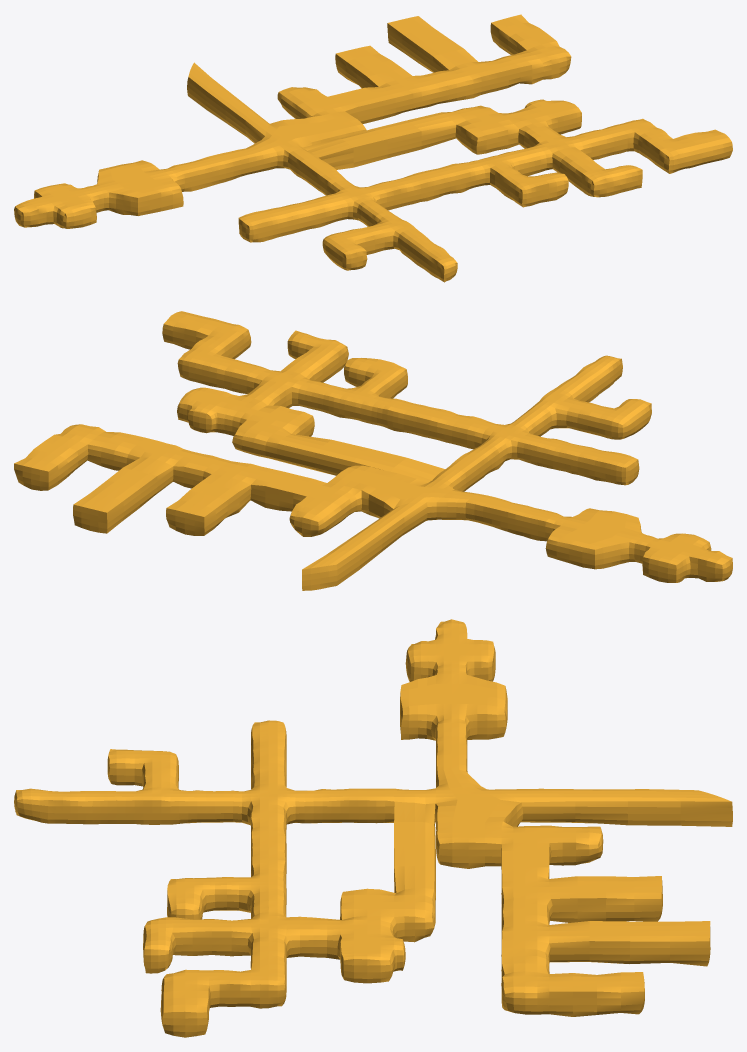
Rendered from Tunnel_1.obj.
3 views of the same model, one above another, from view 1: azimuth 30°, elevation 25°; view 2: azimuth 150°, elevation 25°; view 3: azimuth 270°, elevation 25° (orthographic). The views are drawn at different scales.
Parts seen in each view (by area): view 1: Tunnel_1; view 2: Tunnel_1; view 3: Tunnel_1.
Part boxes in pixels (x1,y1,x2,y2): Tunnel_1: (14,14,732,282); Tunnel_1: (14,311,732,590); Tunnel_1: (14,619,732,1037).
Size of the model in its own units: 156 by 5.38 by 120.
